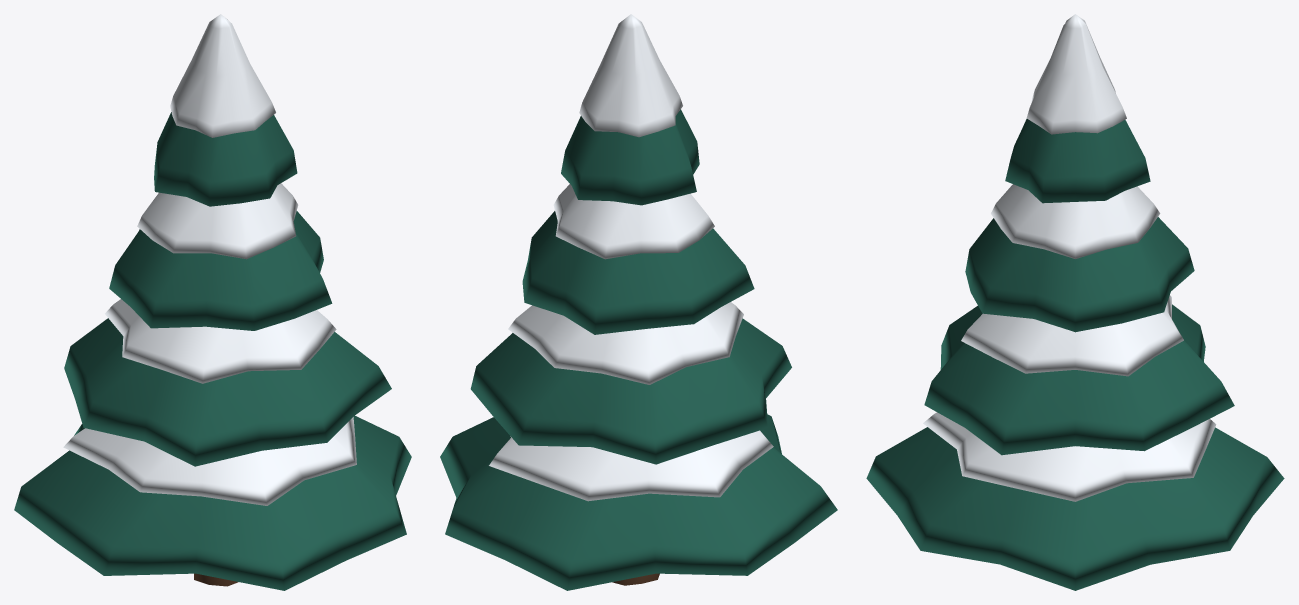
Rendered from SnowballSummitPine.obj.
The picture shows the model from 3 angles, left to right: view 1: azimuth 30°, elevation 25°; view 2: azimuth 150°, elevation 25°; view 3: azimuth 270°, elevation 25°; orthographic projection.
Parts seen in each view (by area): view 1: Needles, Snow; view 2: Needles, Snow; view 3: Needles, Snow.
Boxes of the visible parts, box(x1,y1,x2,y2) form: Needles: box(14, 112, 411, 590); Snow: box(63, 14, 356, 505); Needles: box(440, 109, 837, 590); Snow: box(489, 14, 773, 501); Needles: box(866, 119, 1284, 590); Snow: box(923, 14, 1216, 501).
Bounding box in the file's own units: 10.35 × 15.62 × 10.69.
